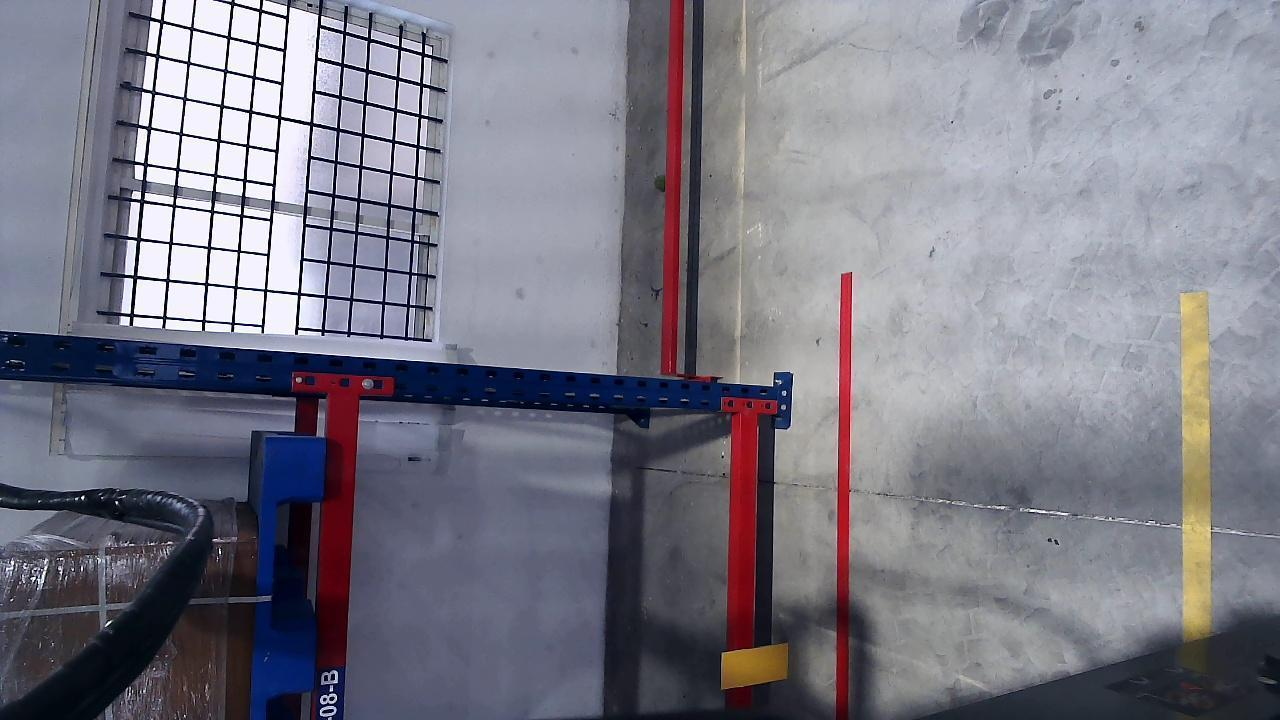red_line: (834, 274, 854, 717)
yellow_line: (1180, 298, 1213, 635)
